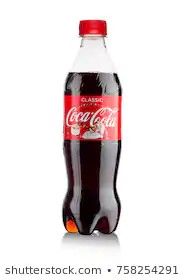coke-bottle-700ml: (61, 16, 128, 236)
